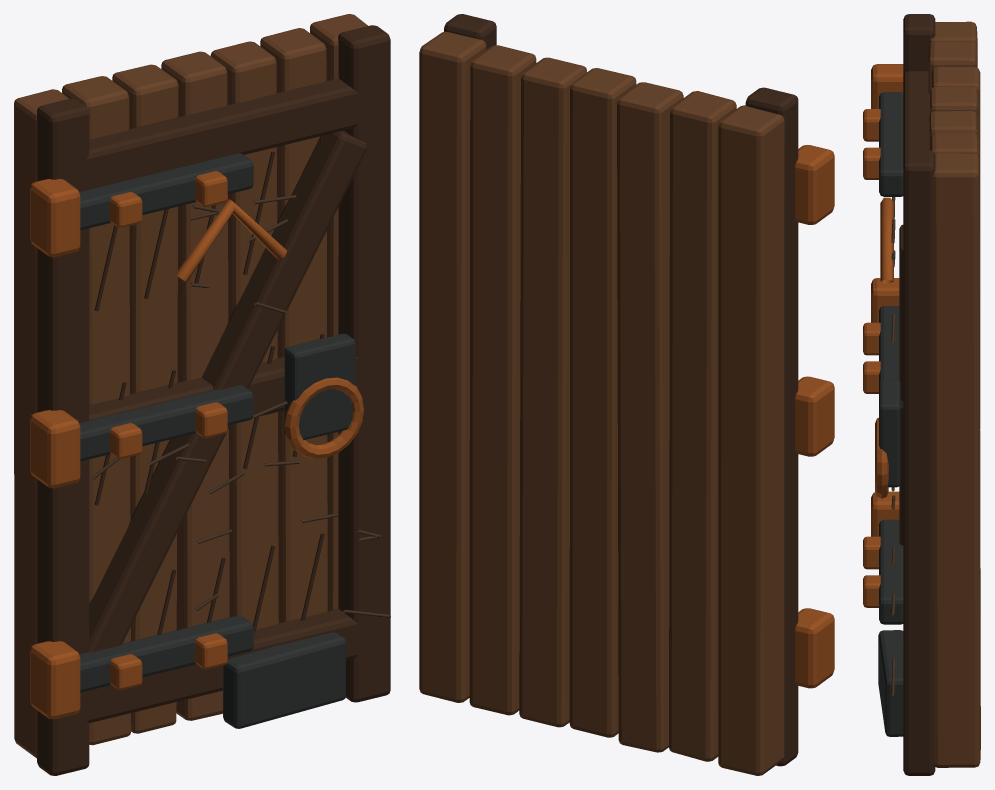
Rendered from door_wood_pivot_LOD0.glb.
3 renders of one model, left to right at view 1: azimuth 30°, elevation 25°; view 2: azimuth 150°, elevation 25°; view 3: azimuth 270°, elevation 25°, orthographic. The views are drawn at different scales.
Parts seen in each view (by area): view 1: DoorEdgeStile.001, DoorEdgeStile, DoorDiagonalBrace, DoorVerticalPlank.003, DoorVerticalPlank.004, DoorVerticalPlank.005, DoorVerticalPlank.002, DoorCrossRail.002, DoorVerticalPlank.001, DoorVerticalPlank, DoorBottomRepairPlate, DoorCrossRail (+17 smaller); view 2: DoorVerticalPlank, DoorVerticalPlank.002, DoorVerticalPlank.006, DoorVerticalPlank.005, DoorVerticalPlank.004, DoorVerticalPlank.001, DoorVerticalPlank.003, DoorEdgeStile, DoorHingeKnuckle.001, DoorHingeKnuckle, DoorHingeKnuckle.002, DoorEdgeStile.001; view 3: DoorVerticalPlank.006, DoorEdgeStile.001, DoorHingeStrap.002, DoorBottomRepairPlate, DoorHingeStrap, DoorCrossRail.002, DoorHandleEscutcheon, DoorEdgeStile, DoorVerticalPlank.002, DoorHingeStrap.001, DoorDiagonalBrace, DoorVerticalPlank.001 (+15 smaller).
Boxes of the visible parts, x1,y1,x2,y2 form: DoorEdgeStile.001: (338, 25, 390, 702); DoorEdgeStile: (37, 99, 89, 775); DoorDiagonalBrace: (85, 130, 367, 652); DoorVerticalPlank.003: (161, 51, 229, 720); DoorVerticalPlank.004: (210, 41, 278, 629); DoorVerticalPlank.005: (260, 28, 327, 622); DoorVerticalPlank.002: (112, 64, 178, 733); DoorCrossRail.002: (69, 78, 375, 191); DoorVerticalPlank.001: (62, 76, 131, 745); DoorVerticalPlank: (14, 89, 69, 758); DoorBottomRepairPlate: (223, 632, 345, 728); DoorCrossRail: (69, 609, 375, 724); DoorVerticalPlank: (718, 105, 784, 775); DoorVerticalPlank.002: (617, 82, 683, 752); DoorVerticalPlank.006: (419, 31, 486, 702); DoorVerticalPlank.005: (469, 45, 536, 715); DoorVerticalPlank.004: (519, 57, 586, 727); DoorVerticalPlank.001: (669, 91, 736, 761); DoorVerticalPlank.003: (569, 68, 636, 737); DoorEdgeStile: (745, 87, 798, 766); DoorHingeKnuckle.001: (795, 376, 834, 456); DoorHingeKnuckle: (795, 608, 834, 688); DoorHingeKnuckle.002: (795, 145, 834, 224); DoorEdgeStile.001: (444, 14, 496, 49); DoorVerticalPlank.006: (933, 153, 980, 767); DoorEdgeStile.001: (903, 150, 935, 775); DoorHingeStrap.002: (879, 92, 903, 196); DoorBottomRepairPlate: (878, 630, 903, 736); DoorHingeStrap: (879, 519, 903, 624); DoorCrossRail.002: (903, 71, 929, 154); DoorHandleEscutcheon: (879, 379, 900, 487); DoorEdgeStile: (903, 14, 935, 73); DoorVerticalPlank.002: (931, 66, 980, 429); DoorHingeStrap.001: (879, 306, 903, 410); DoorDiagonalBrace: (899, 224, 903, 545); DoorVerticalPlank.001: (928, 42, 977, 93).
Size of the model in its own units: 1.44 by 2.52 by 0.4396.
